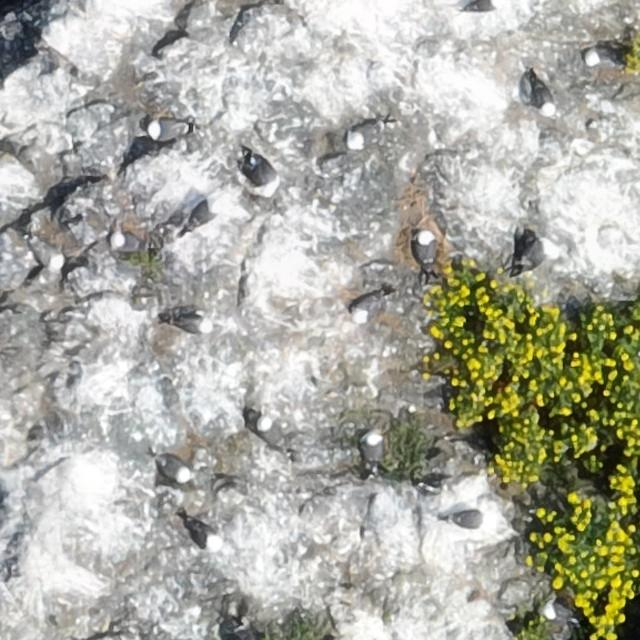umineko: (254, 416, 293, 458), (30, 234, 66, 274), (250, 156, 279, 188), (186, 519, 217, 546), (157, 458, 189, 482), (170, 313, 210, 332), (521, 242, 552, 266), (187, 202, 216, 226), (414, 232, 434, 266), (150, 120, 182, 140), (351, 124, 380, 146), (363, 434, 382, 466), (354, 296, 379, 320), (543, 604, 574, 623), (452, 511, 484, 528), (536, 84, 554, 114), (114, 233, 143, 250), (585, 51, 614, 68), (467, 0, 498, 12)
